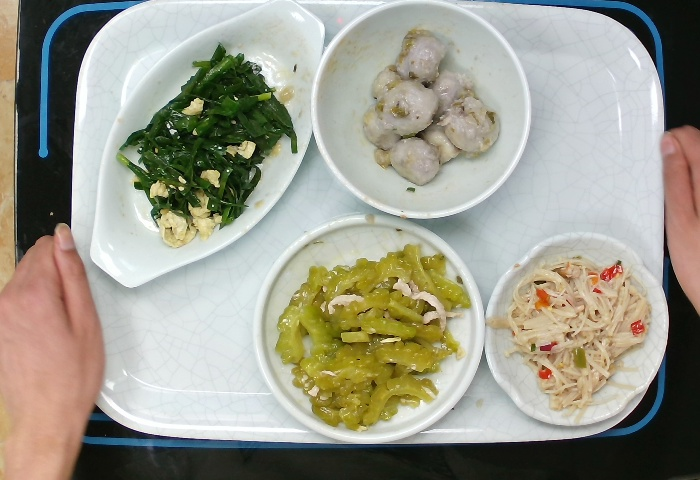JYsf-Ao_Yuan_Wan: (482, 229, 671, 427)
JYsf-Fan_Wan: (308, 1, 533, 221)
JYsf-Xiao_Yuan_Pan: (251, 211, 487, 445)
JYsf-Yu_Pan: (87, 1, 327, 289)
